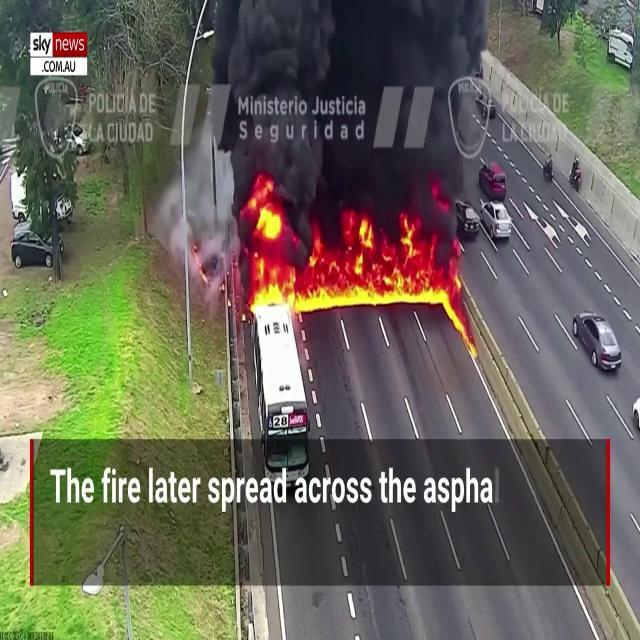Fire: (244, 202, 462, 310)
Smoke: (221, 0, 485, 231)
